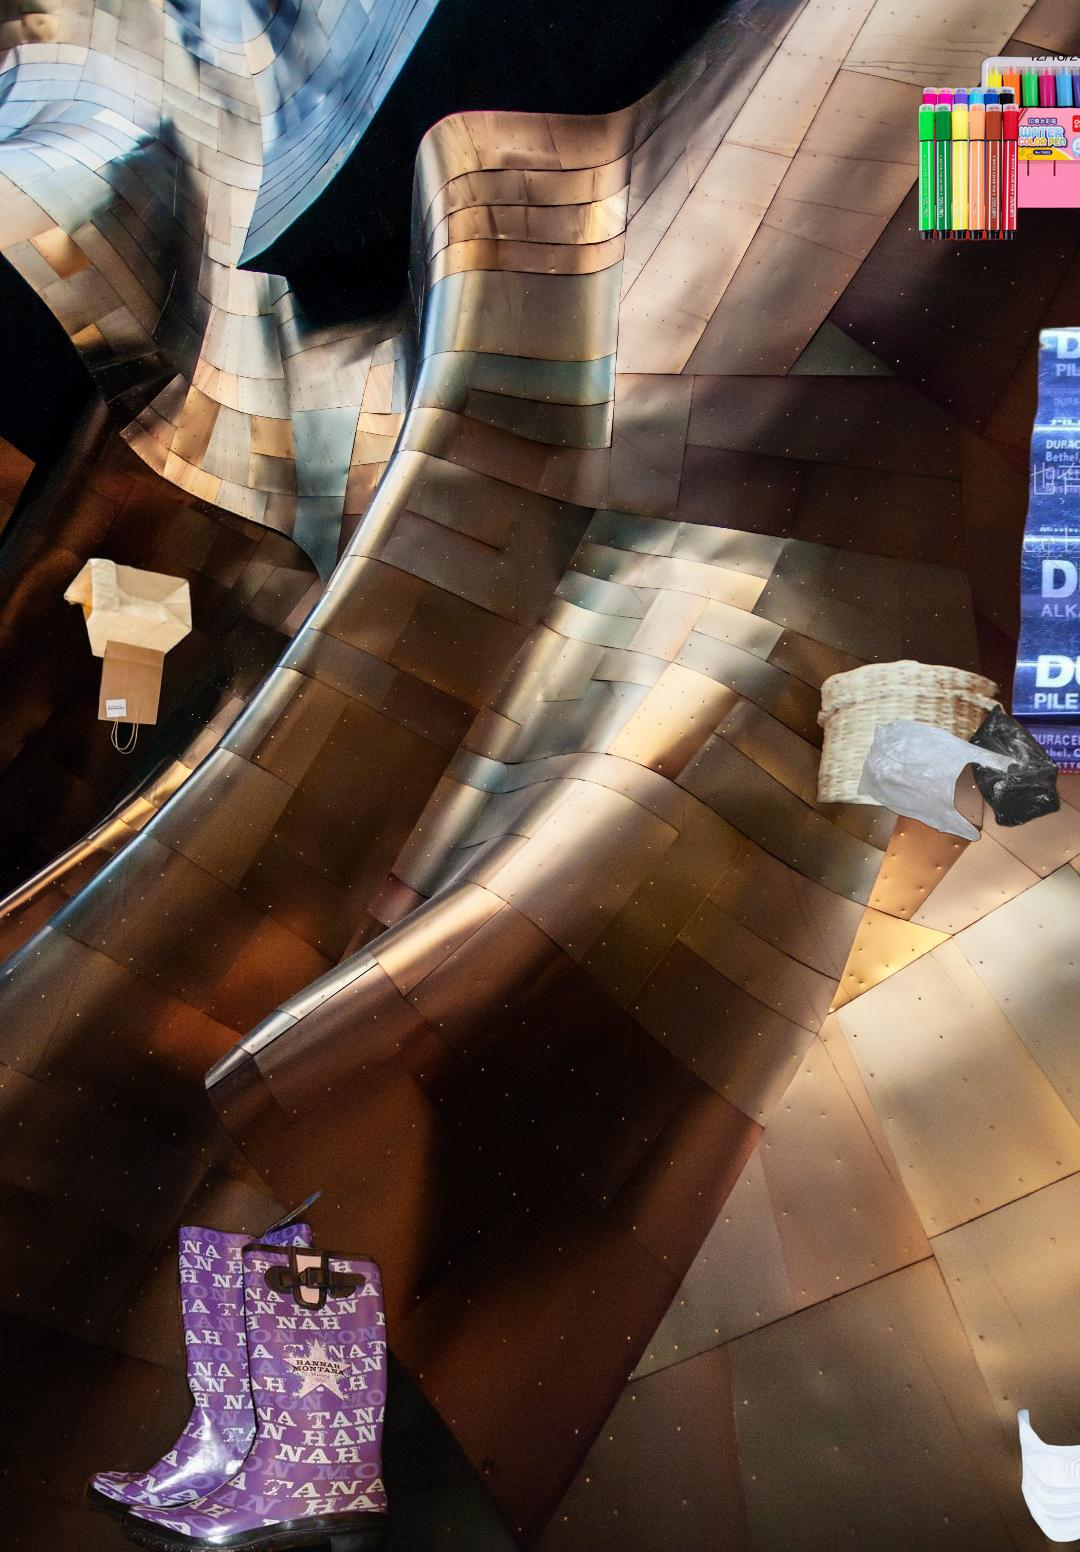battery: (868, 322, 1080, 780)
clothes: (79, 1190, 498, 1552)
paper-bag: (60, 535, 196, 757)
penholder: (915, 50, 1080, 243)
plastic-bag: (812, 658, 1071, 846)
trash: (1015, 1406, 1080, 1545)
